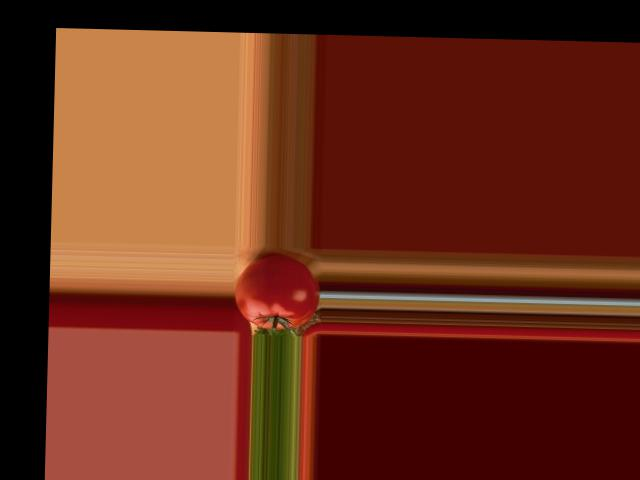tomato: (233, 255, 320, 330)
